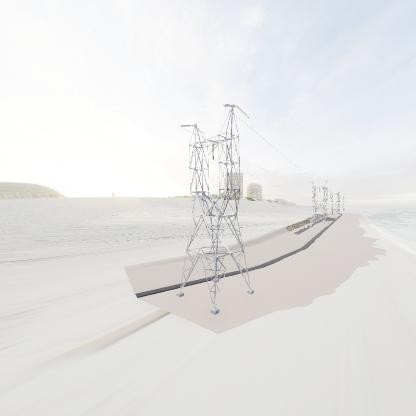tower: (176, 102, 258, 321)
